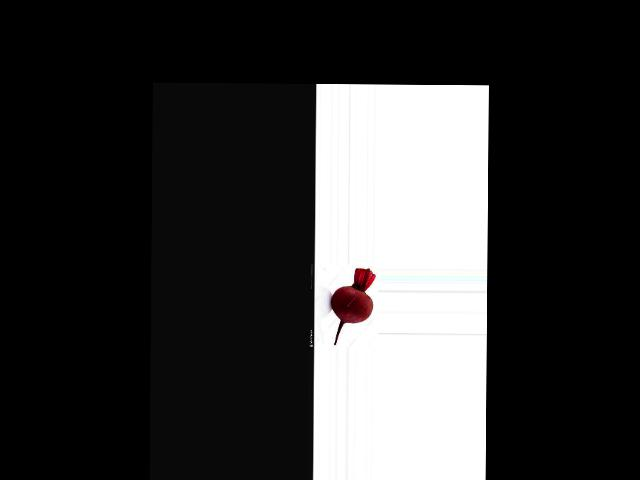beet: (330, 267, 374, 345)
